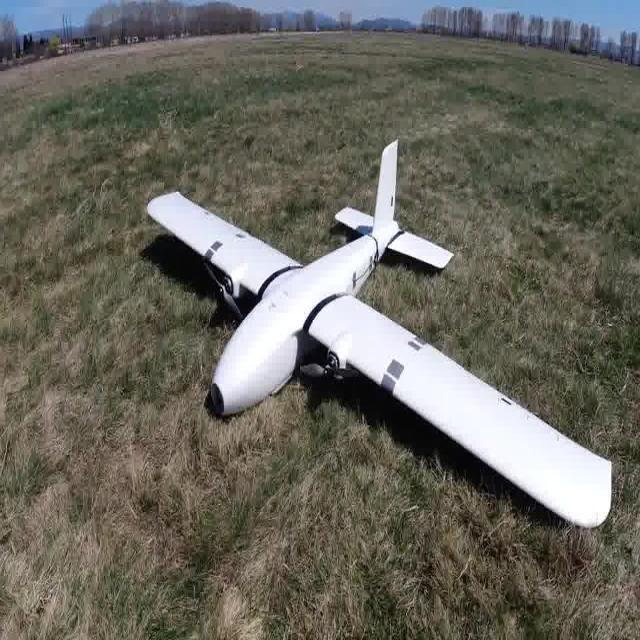iha: (139, 132, 617, 544)
